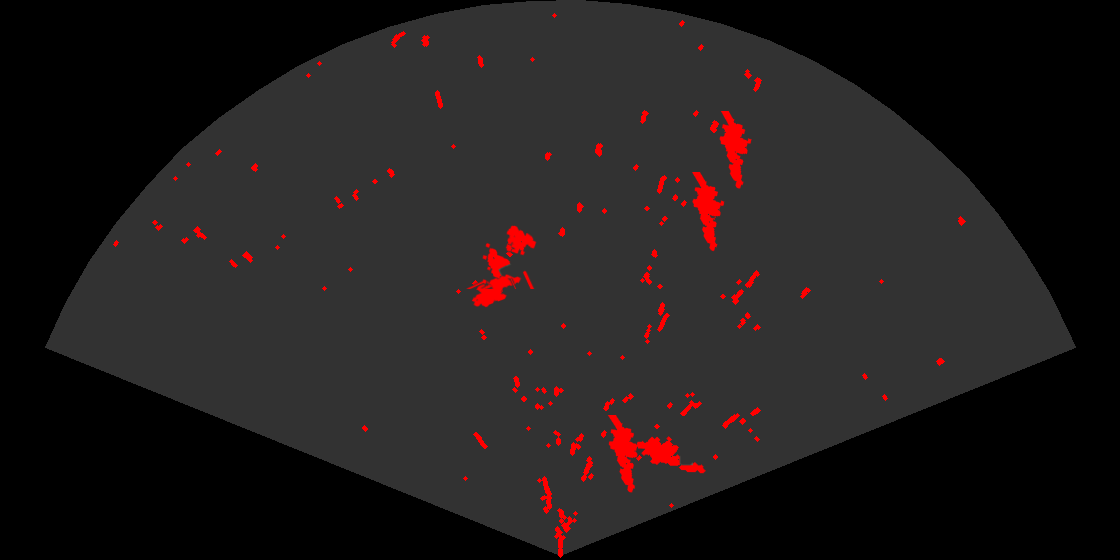AUV: (470, 273, 523, 309)
cage: (465, 224, 538, 289)
frogman: (606, 415, 642, 494), (691, 172, 726, 253), (718, 111, 753, 190), (638, 435, 706, 475)
